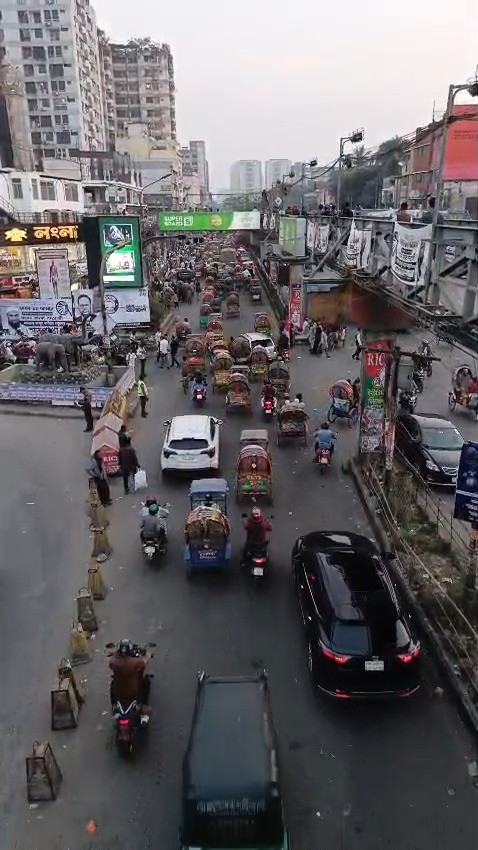Bikes: (92, 636, 152, 760), (129, 483, 177, 572), (238, 507, 274, 578), (315, 421, 354, 472), (192, 371, 222, 396)
auto-ricksaw: (179, 324, 248, 411), (233, 421, 287, 490), (194, 289, 249, 321), (447, 360, 478, 402)
cng: (199, 660, 293, 850)
private car: (303, 534, 442, 723), (408, 411, 478, 479), (172, 407, 236, 475), (251, 326, 282, 355), (254, 349, 265, 356), (247, 354, 255, 354)
